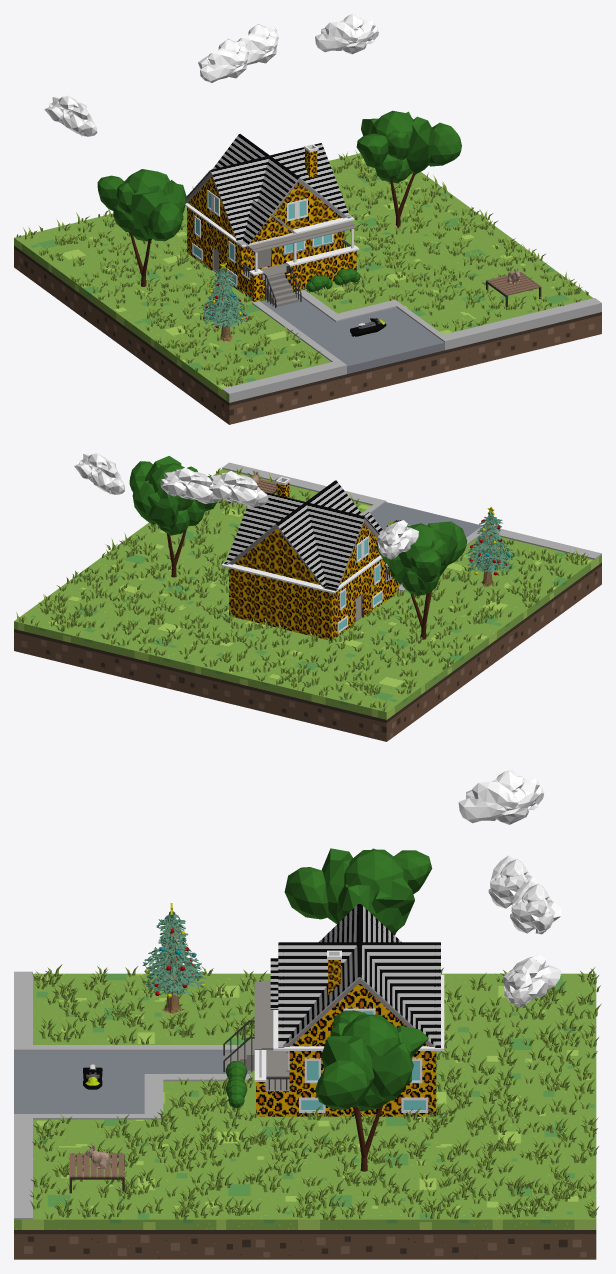
3 views of the same model, one above another, from view 1: azimuth 30°, elevation 25°; view 2: azimuth 150°, elevation 25°; view 3: azimuth 270°, elevation 25° (orthographic). The views are drawn at different scales.
Parts seen in each view (by area): view 1: Cube.006, Cube.637, Circle.012_Grass_0.192, Cube.007, tree, tree.001, OBJRANDOM_CHRISTMAS_TREE, Cube.009; view 2: Cube.006, Cube.637, Circle.012_Grass_0.192, Cube.007, tree.001, tree, OBJRANDOM_CHRISTMAS_TREE; view 3: Cube.006, Circle.012_Grass_0.192, Cube.637, tree, Cube.007, tree.001, OBJRANDOM_CHRISTMAS_TREE, Cube.009.
Boxes of the visible parts, <box> form: Cube.006: <box>14,153,601,424</box>; Cube.637: <box>185,134,359,308</box>; Circle.012_Grass_0.192: <box>16,150,588,386</box>; Cube.007: <box>44,14,378,136</box>; tree: <box>356,110,461,228</box>; tree.001: <box>97,169,186,286</box>; OBJRANDOM_CHRISTMAS_TREE: <box>199,262,249,341</box>; Cube.009: <box>486,272,541,306</box>; Cube.006: <box>14,462,601,741</box>; Cube.637: <box>221,477,398,640</box>; Circle.012_Grass_0.192: <box>16,468,588,711</box>; Cube.007: <box>74,453,418,559</box>; tree.001: <box>375,521,467,639</box>; tree: <box>129,456,216,577</box>; OBJRANDOM_CHRISTMAS_TREE: <box>465,506,512,587</box>; Cube.006: <box>14,971,596,1259</box>; Circle.012_Grass_0.192: <box>29,964,601,1220</box>; Cube.637: <box>223,903,444,1116</box>; tree: <box>315,1010,428,1171</box>; Cube.007: <box>458,770,561,1007</box>; tree.001: <box>284,848,432,935</box>; OBJRANDOM_CHRISTMAS_TREE: <box>142,903,205,1014</box>; Cube.009: <box>69,1153,124,1193</box>.
Size of the model in its own units: 4071 by 2175 by 4040.
Materials: 33 (4 with a texture image).
